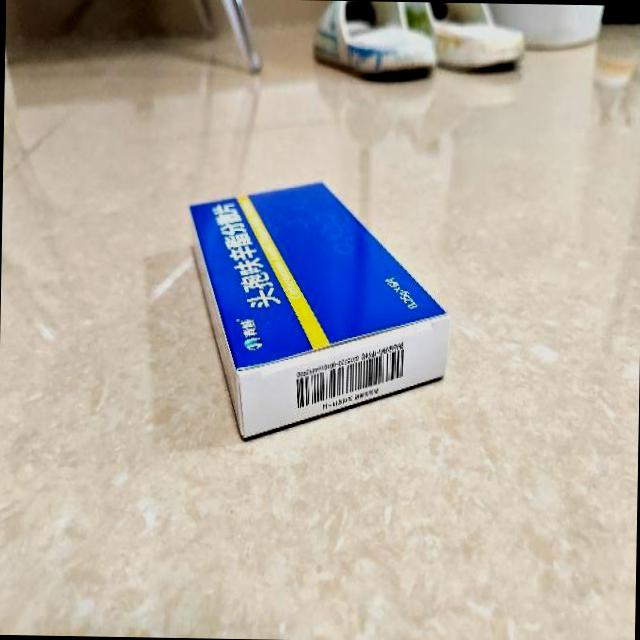box: (184, 177, 453, 444)
